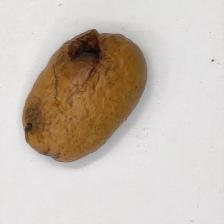NG: (67, 26, 114, 68), (22, 103, 45, 143)
